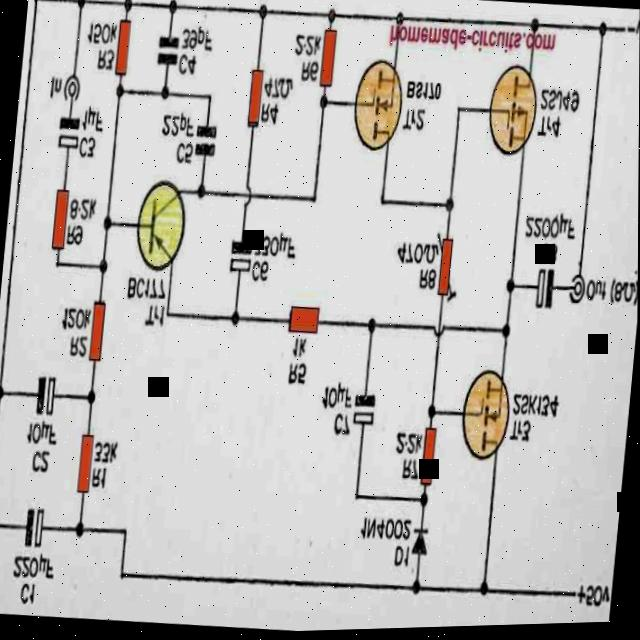capacitor: (13, 496, 56, 554), (26, 368, 61, 426), (52, 104, 84, 159), (528, 264, 558, 321), (151, 25, 180, 78), (223, 234, 254, 281), (187, 119, 217, 166), (349, 384, 378, 432)
diode: (404, 516, 435, 565)
mosfet: (342, 53, 414, 170), (478, 56, 540, 173), (454, 364, 514, 479)
node: (107, 73, 129, 109), (359, 310, 380, 346), (92, 249, 112, 284), (419, 395, 441, 425), (441, 190, 457, 224), (80, 385, 100, 412), (193, 176, 209, 209), (408, 573, 425, 604), (474, 577, 493, 604), (524, 16, 543, 43), (226, 305, 244, 333), (314, 88, 332, 116), (322, 4, 339, 32), (156, 77, 172, 106), (495, 323, 512, 350), (391, 7, 407, 34), (72, 516, 87, 544), (503, 272, 517, 301), (254, 0, 269, 27), (416, 491, 431, 514), (593, 22, 608, 45), (116, 0, 135, 18), (162, 0, 177, 20), (100, 212, 113, 234), (0, 377, 6, 406), (72, 0, 87, 10)
resistor: (431, 231, 462, 310), (44, 178, 74, 257), (84, 285, 110, 368), (314, 24, 341, 91), (71, 430, 95, 505), (284, 298, 324, 340), (107, 20, 135, 80), (242, 63, 266, 132), (417, 429, 440, 490)
transistor: (124, 170, 193, 283)
